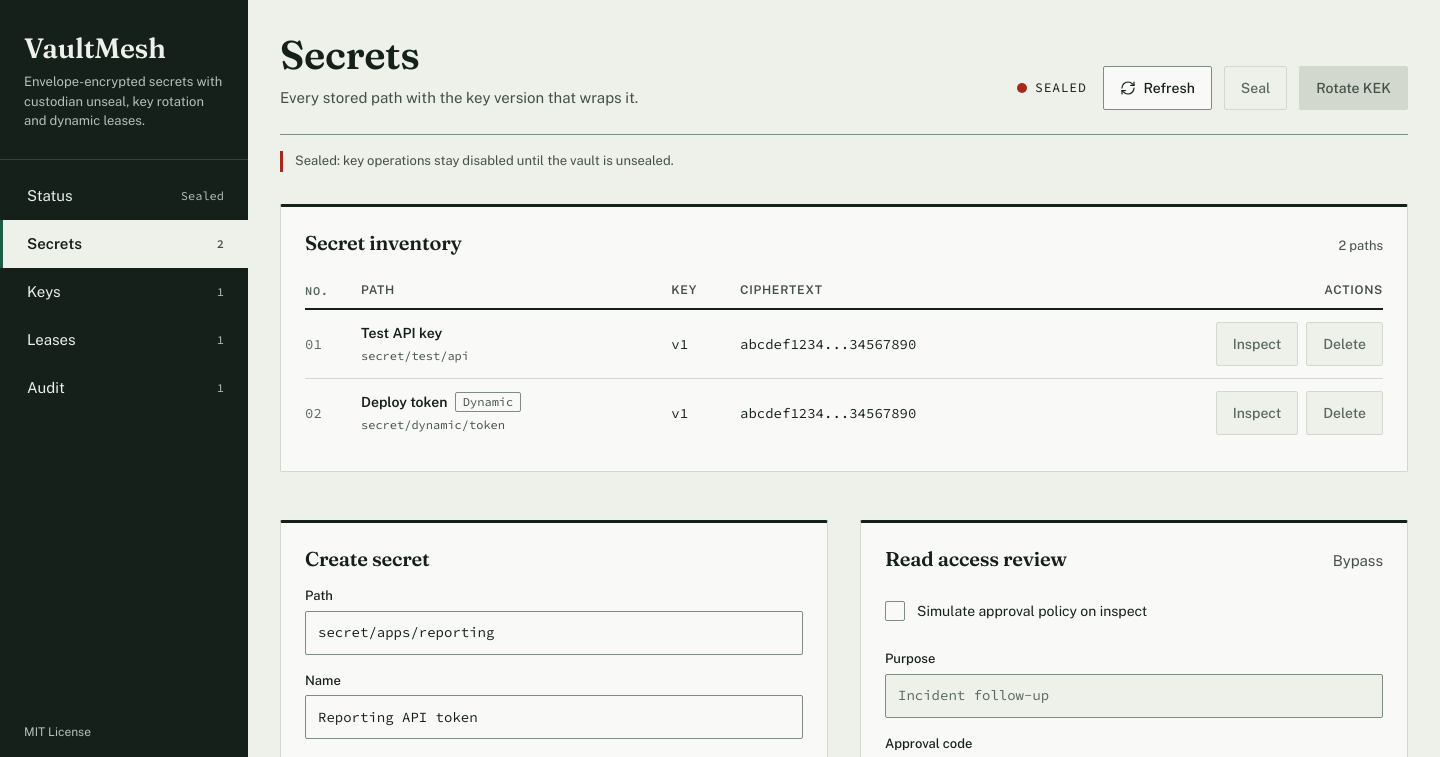
App › unseals with sample shares, skipping shares that were already submitted
Check: the text "Test API key" is shown, box x1=361 y1=325 x2=442 y2=341
Click the button "Status Sealed" at [124, 196], box x1=0 y1=172 x2=248 y2=220
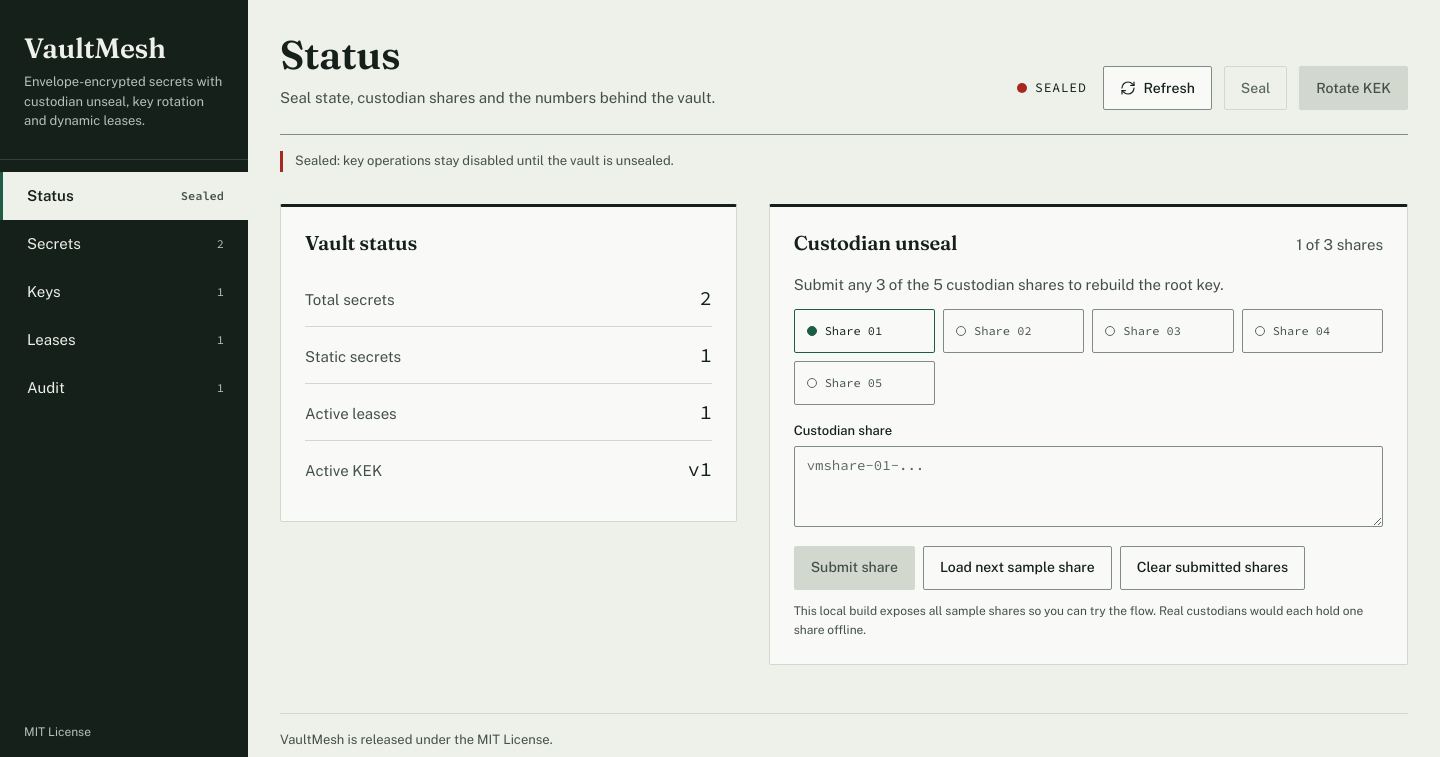
Check: the text "1 of 3 shares" is shown, box x1=1296 y1=233 x2=1383 y2=257
Click the button "Load next sample share" at [1017, 568], box x1=923 y1=546 x2=1112 y2=590
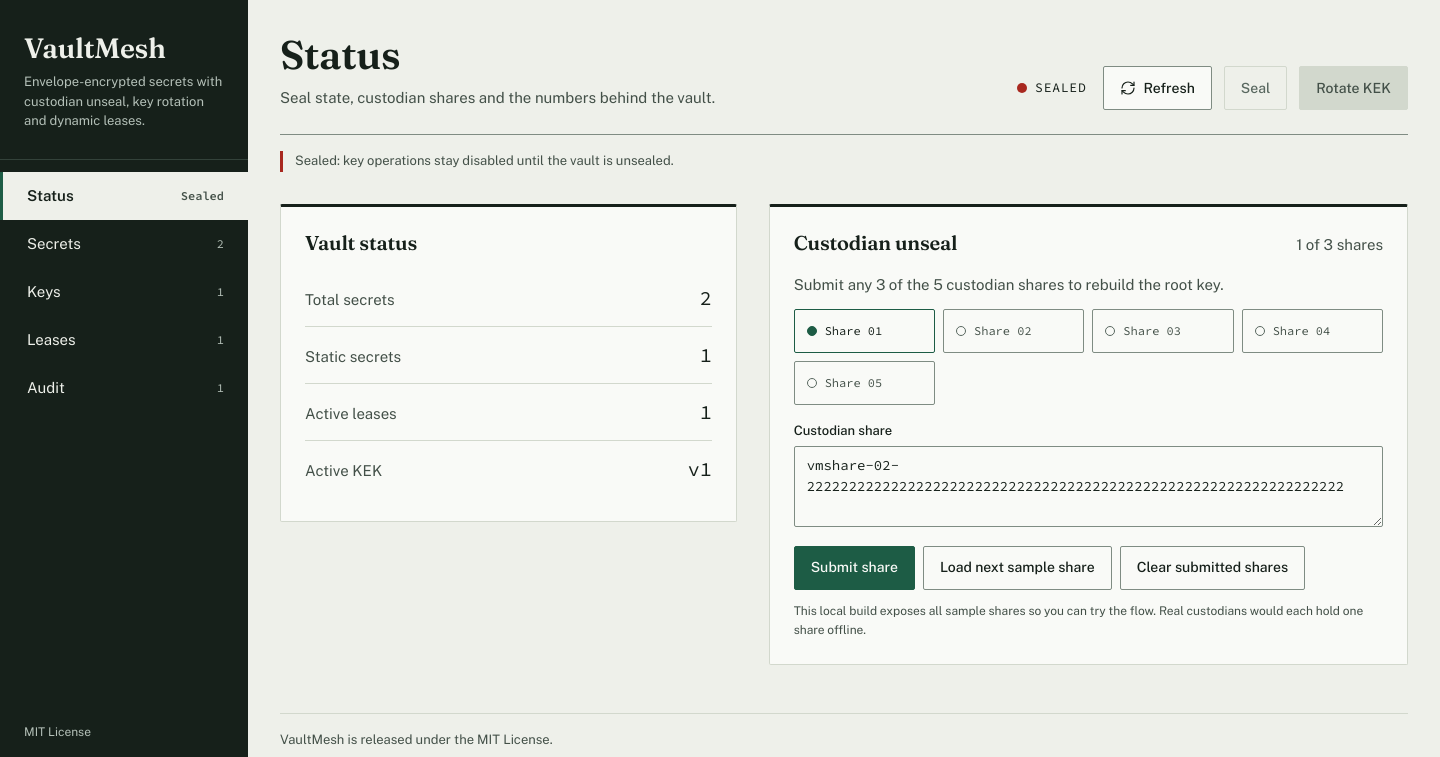
Click the button "Submit share" at [854, 568], box x1=794 y1=546 x2=915 y2=590
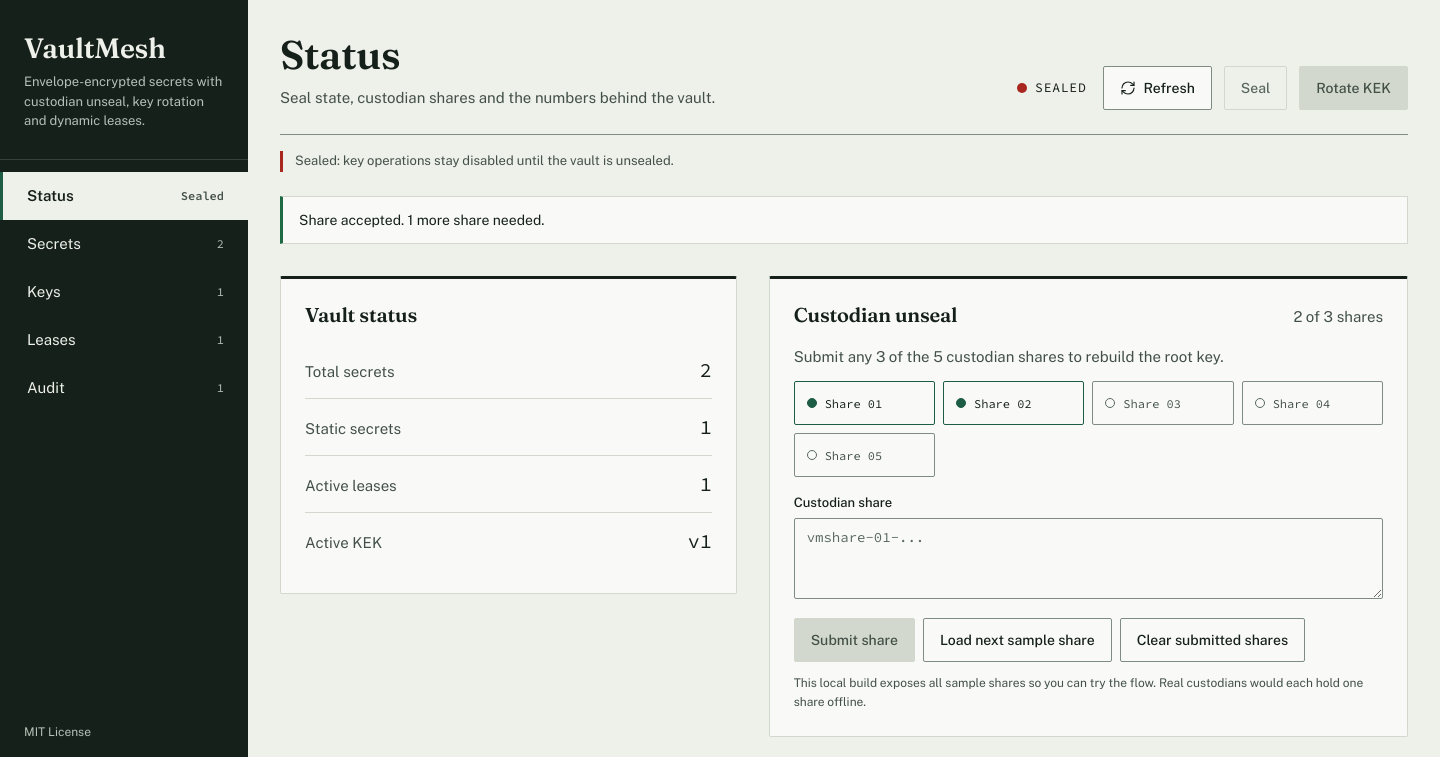
Check: the text "Share accepted. 1 more share needed." is shown, box x1=280 y1=196 x2=1408 y2=244
Check: the text box labelled "Custodian share" is empty, box x1=794 y1=518 x2=1383 y2=599
Click the button "Load next sample share" at [1017, 640], box x1=923 y1=618 x2=1112 y2=662
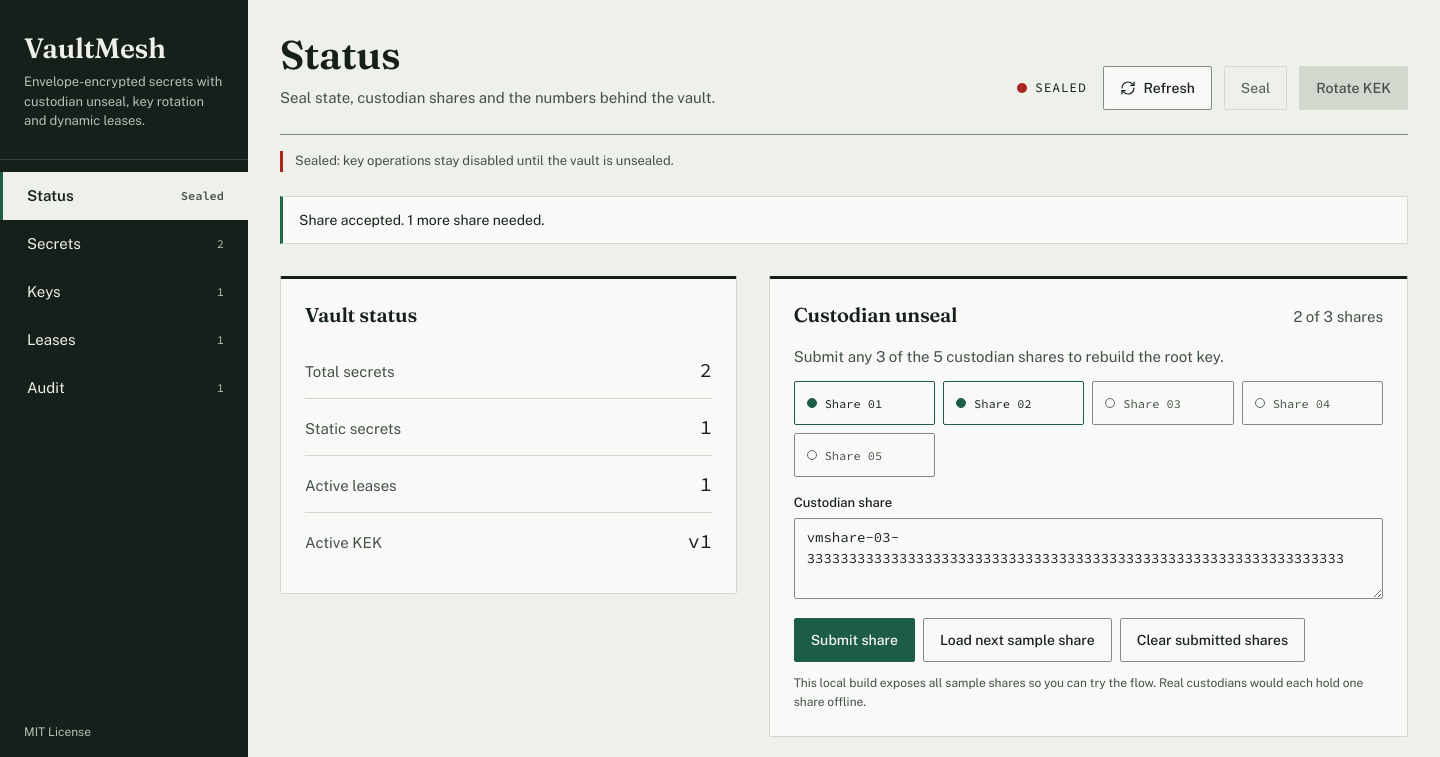
Click the button "Submit share" at [854, 640], box x1=794 y1=618 x2=915 y2=662
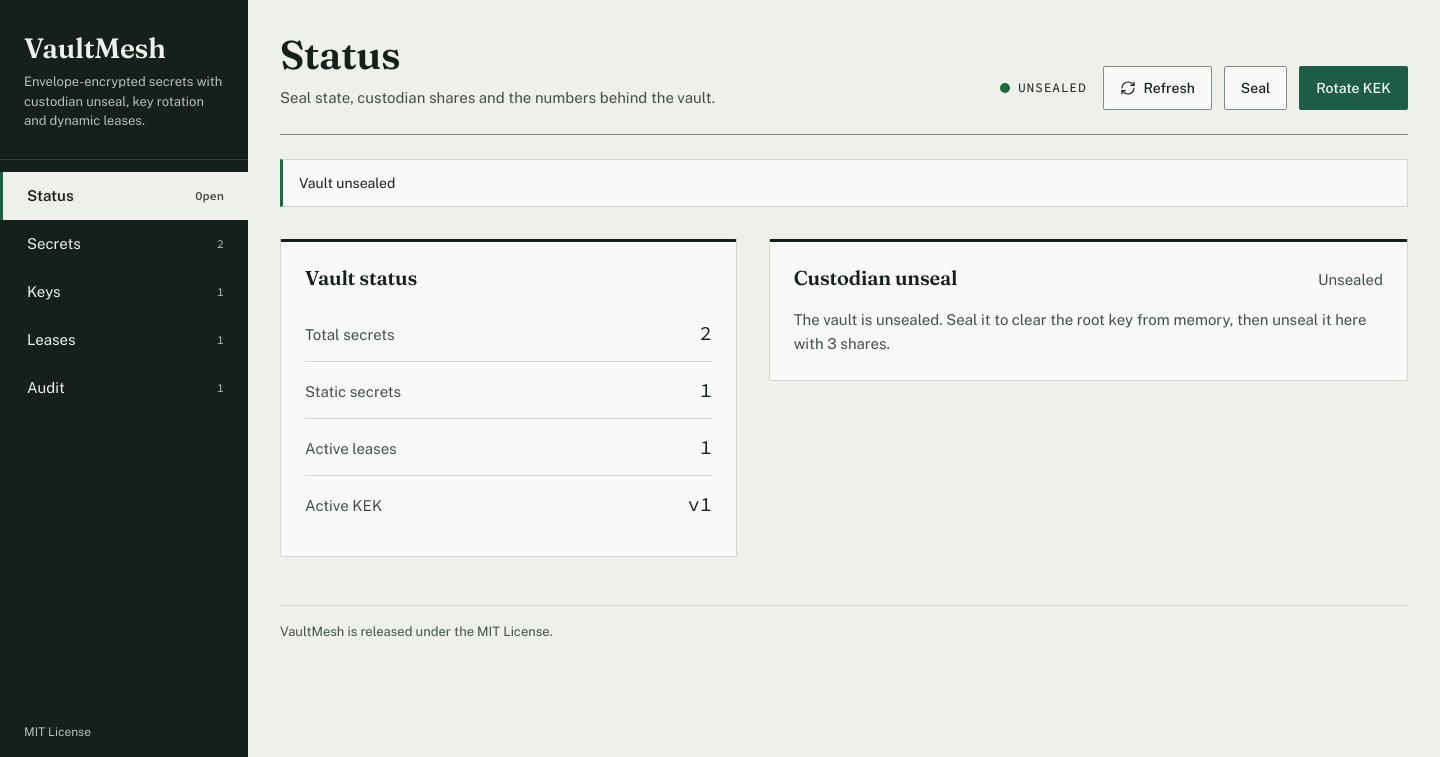
Check: the text "Vault unsealed" is shown, box x1=280 y1=159 x2=1408 y2=207
Check: the button "Rotate KEK" is enabled, box x1=1299 y1=66 x2=1408 y2=110
